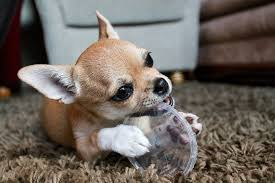chihuahua: (16, 11, 204, 162)
